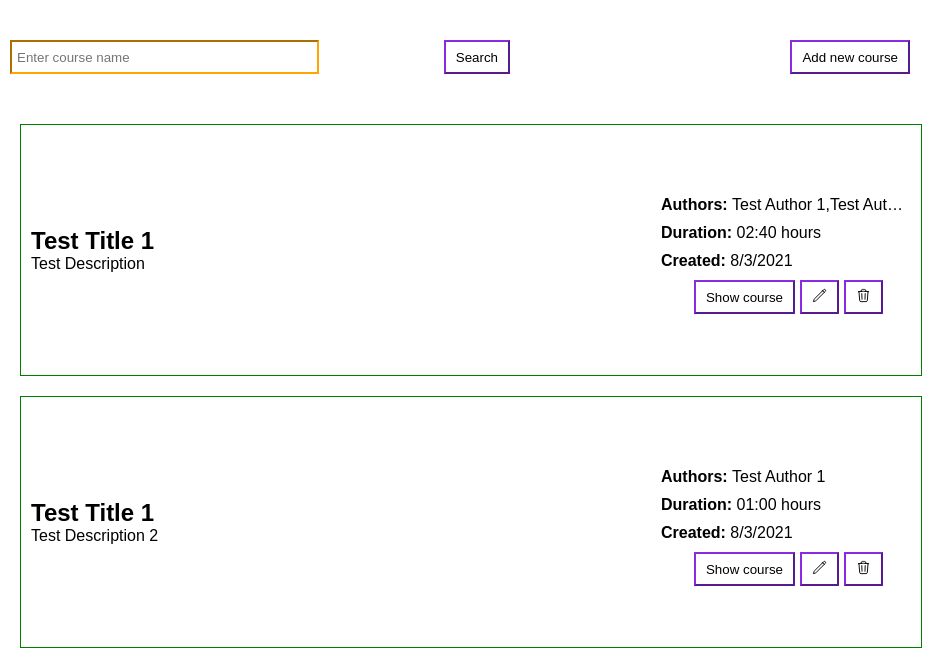
Test: CourseForm should be showed after a click on a button "Add new course"
This screenshot has width=939, height=665.
Click the button "Add new course" at (850, 57), box [790,40,910,74]
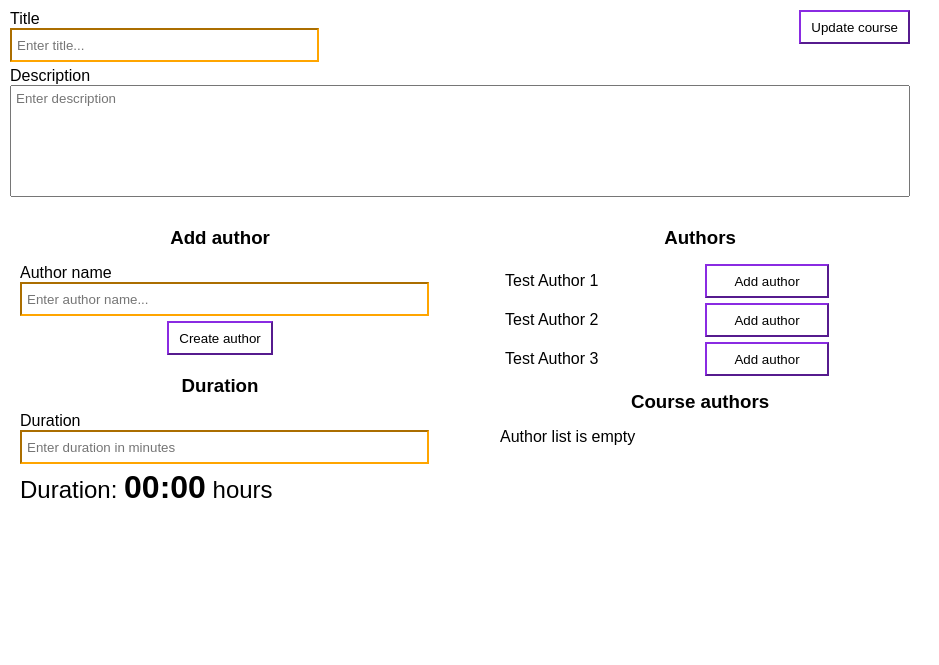
Check: the form with class "formCourse" is shown
